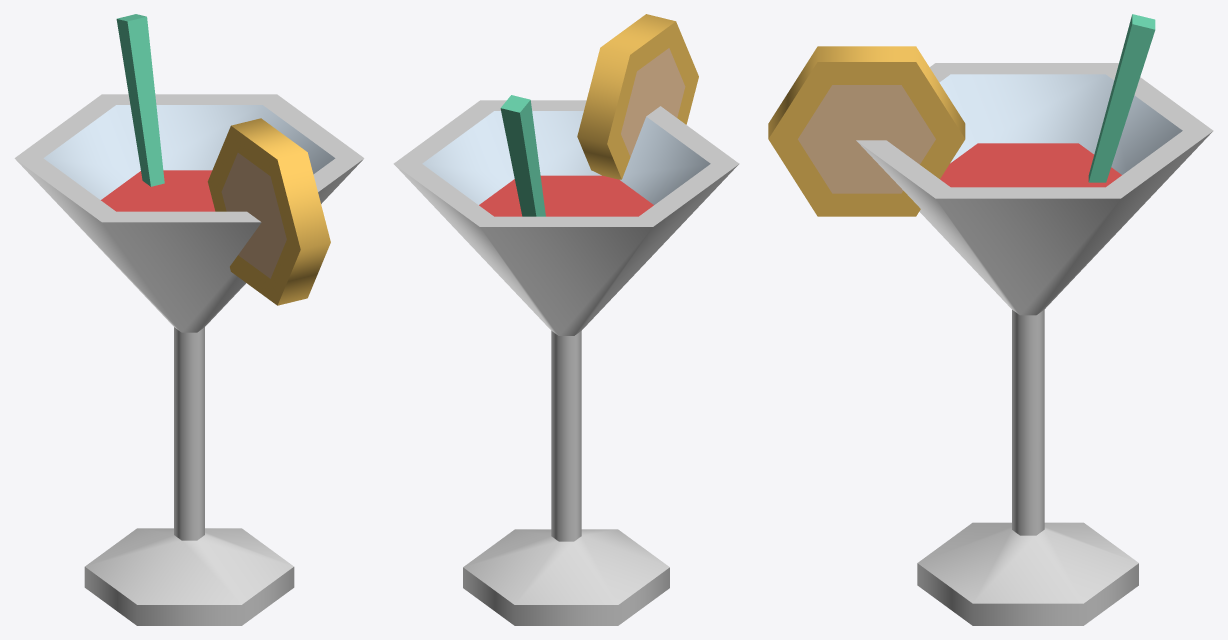
File: cocktail.gltf
The picture shows the model from 3 angles, left to right: view 1: azimuth 30°, elevation 25°; view 2: azimuth 150°, elevation 25°; view 3: azimuth 270°, elevation 25°; orthographic projection. The views are drawn at different scales.
Visible parts, largest first — view 1: cocktail, lemon, straw; view 2: cocktail, lemon, straw; view 3: cocktail, lemon, straw.
Part boxes in pixels (<box>): cocktail: <box>14,94,364,625</box>; lemon: <box>207,118,330,305</box>; straw: <box>116,14,164,186</box>; cocktail: <box>393,100,739,625</box>; lemon: <box>577,14,698,179</box>; straw: <box>500,95,545,216</box>; cocktail: <box>856,63,1213,625</box>; lemon: <box>768,46,965,216</box>; straw: <box>1088,14,1155,182</box>.
Size of the model in its own units: 0.2607 by 0.5059 by 0.3615.
